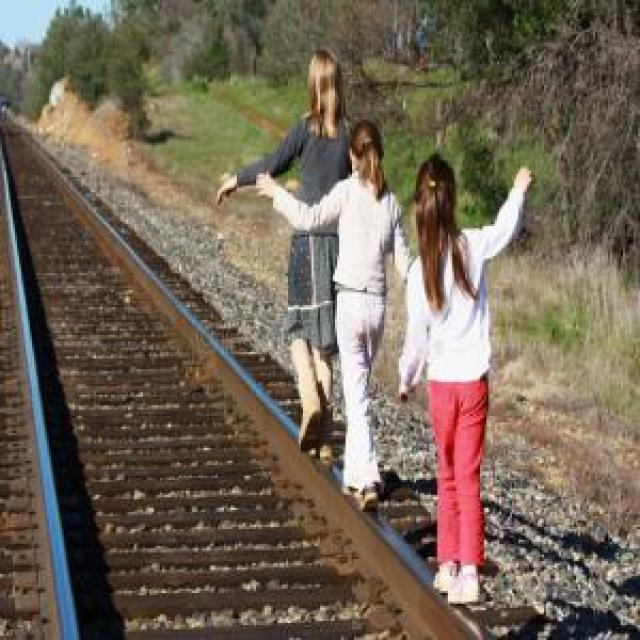danger: (260, 122, 412, 516), (399, 156, 531, 604), (213, 47, 350, 463)
rail: (0, 114, 505, 640)
